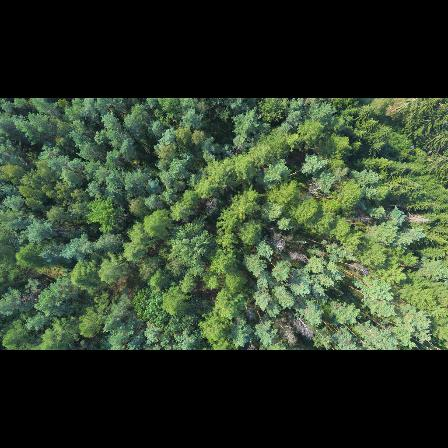Dead: (276, 322, 299, 347), (294, 314, 316, 340), (345, 259, 376, 277), (270, 232, 288, 253)
